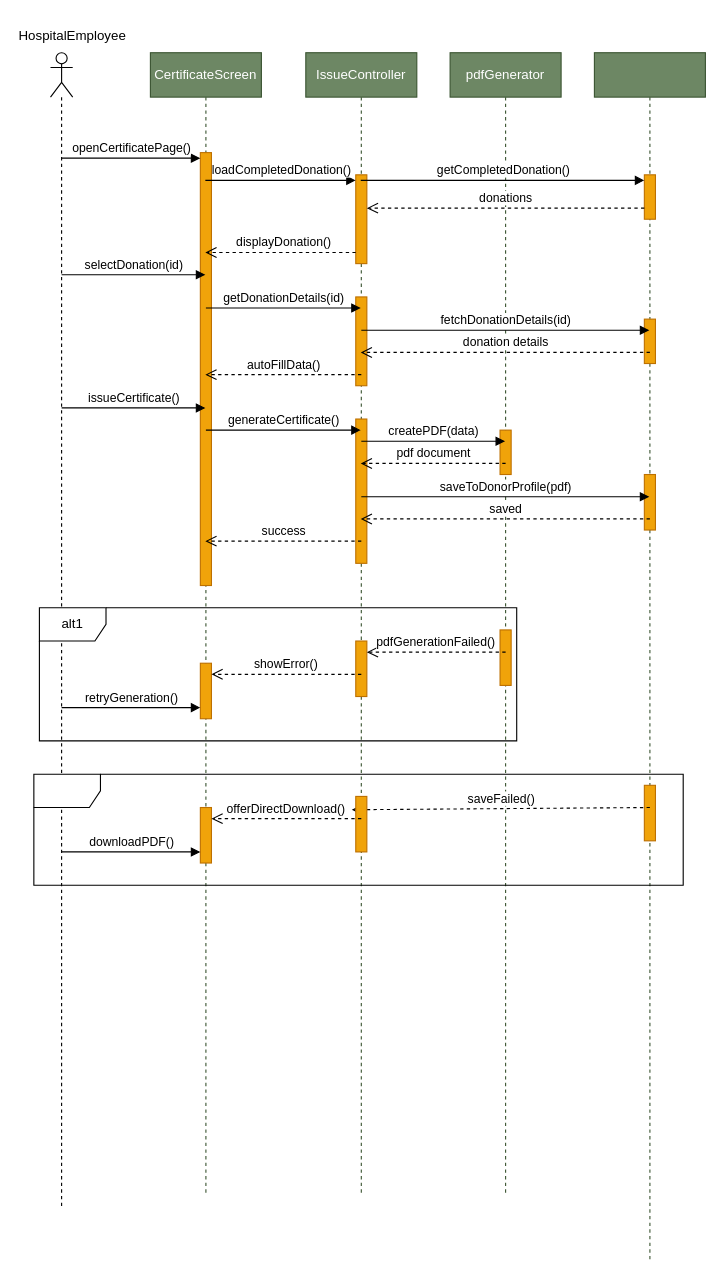
Some shapes in this 725 by 1282 pixel diagram are drawn without their labels. Each missing label, with the box of its shape:
alt2: (33, 773, 683, 885)
DBManager: (593, 52, 705, 1263)
